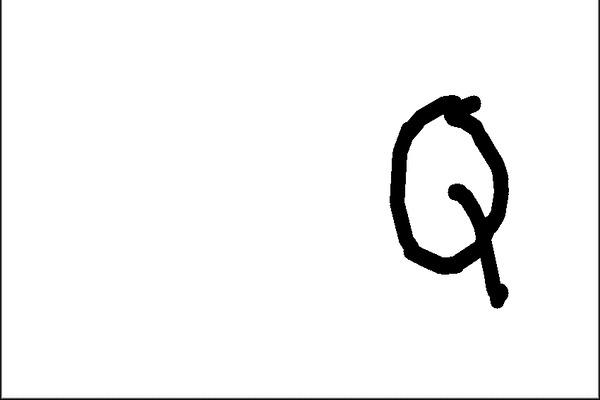Q: (374, 85, 523, 313)
